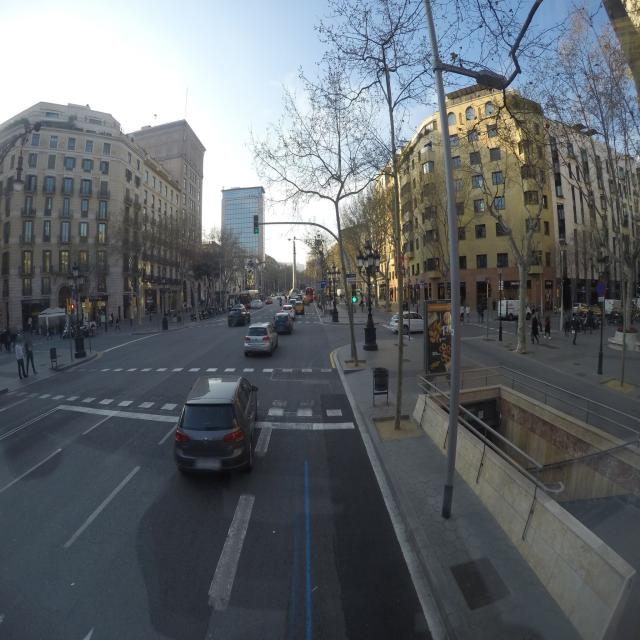forb_stopping: (596, 280, 605, 297)
